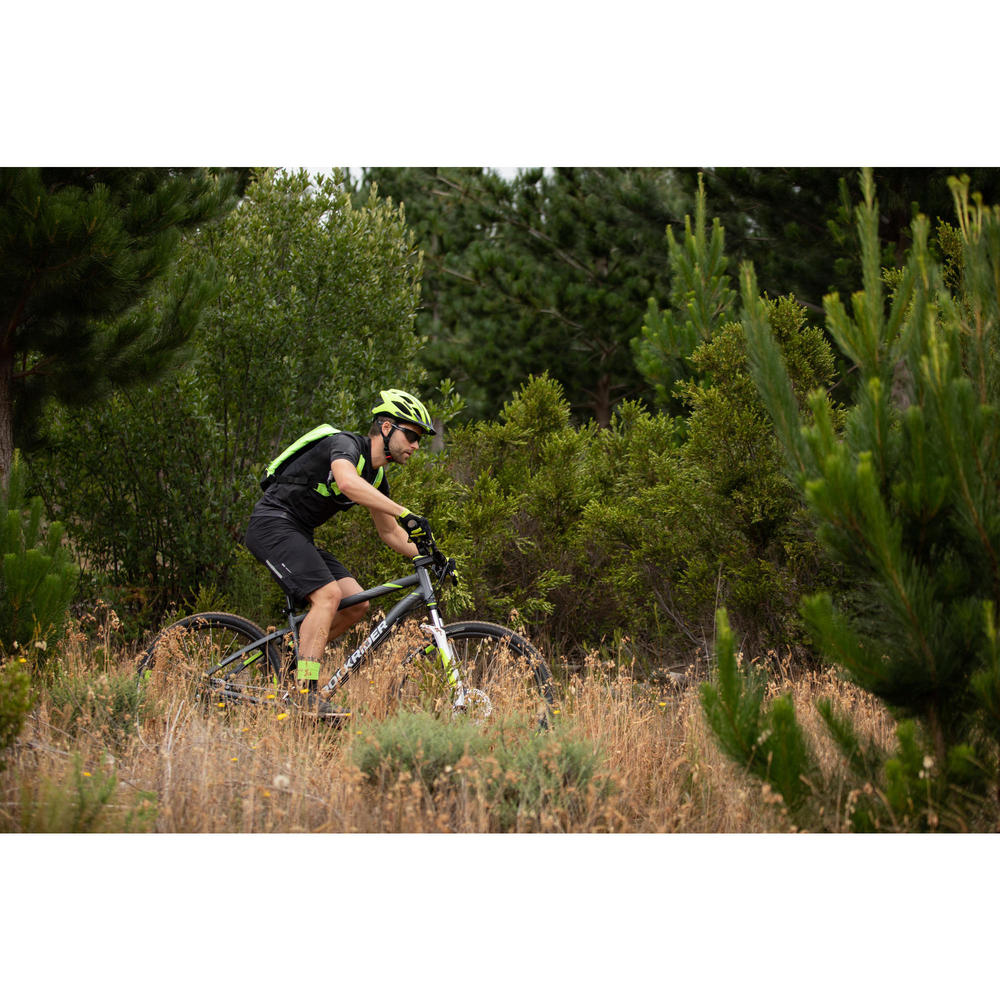MountainBike: (130, 512, 565, 732)
